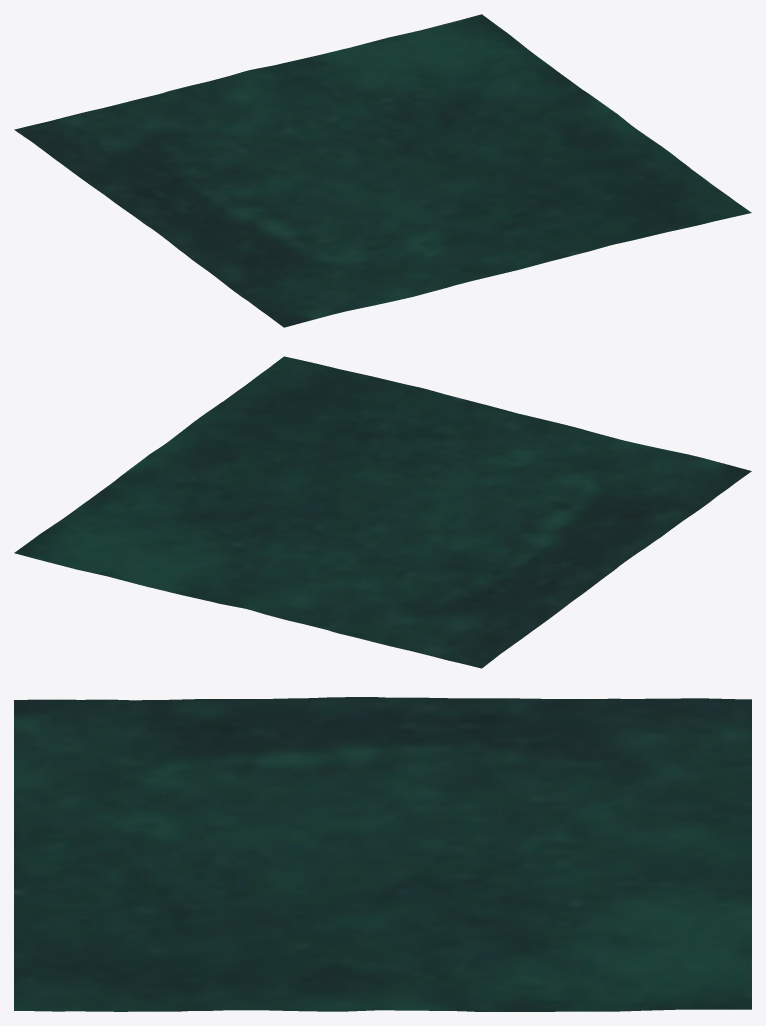
3 views of the same model, one above another, from view 1: azimuth 30°, elevation 25°; view 2: azimuth 150°, elevation 25°; view 3: azimuth 270°, elevation 25° (orthographic). The views are drawn at different scales.
Bounding box in the file's own units: 52.22 × 0.3725 × 52.22.
2 materials, 2 textured.
